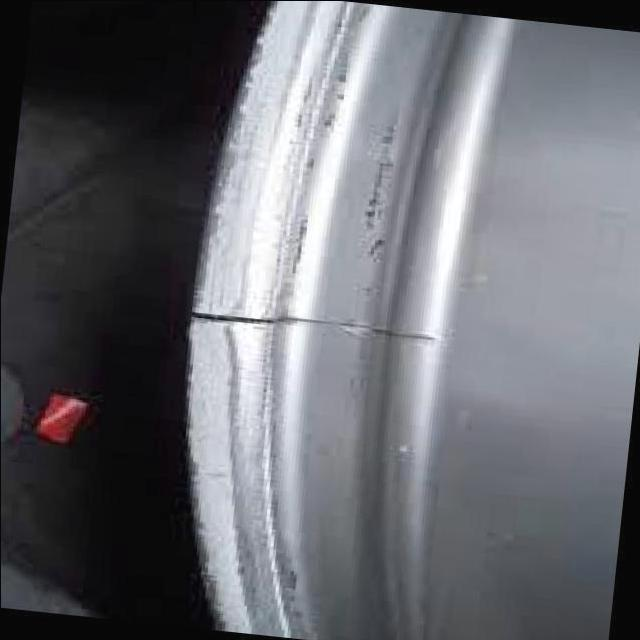defect: (185, 310, 442, 347)
